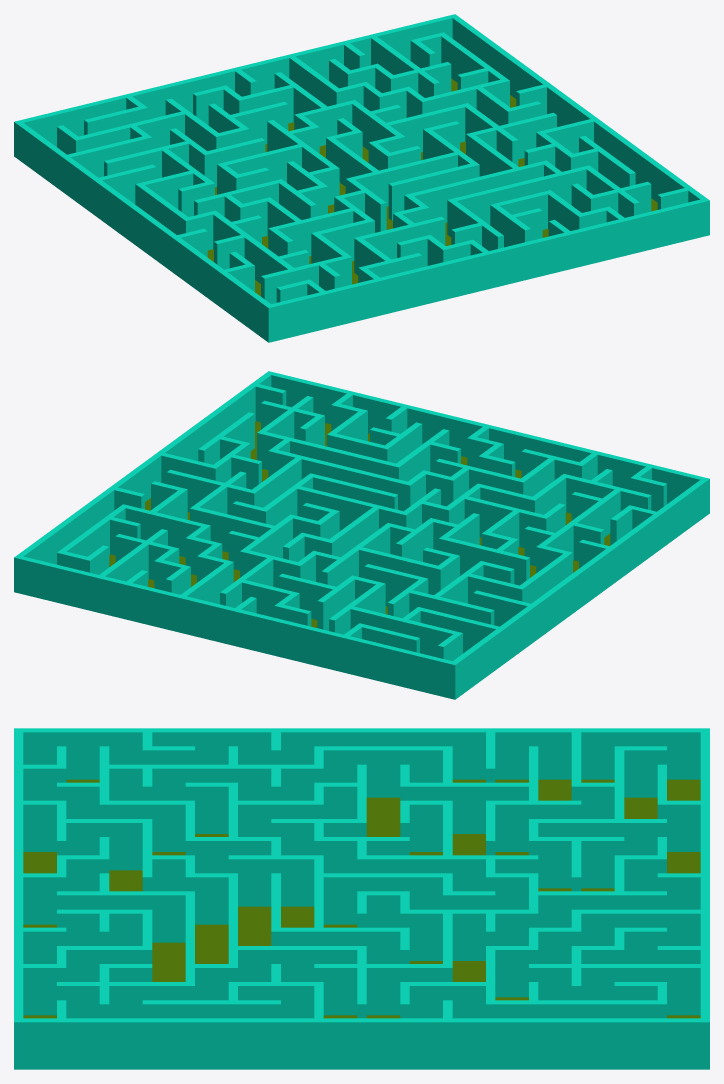
Rendered from Level47Graund.FBX.
The picture shows the model from 3 angles, top to bottom: view 1: azimuth 30°, elevation 25°; view 2: azimuth 150°, elevation 25°; view 3: azimuth 270°, elevation 25°; orthographic projection. The views are drawn at different scales.
Visible parts, largest first — view 1: pPlane2; view 2: pPlane2; view 3: pPlane2.
Boxes of the visible parts, x1=… form: pPlane2: x1=14, y1=14, x2=709, y2=342; pPlane2: x1=14, y1=371, x2=709, y2=699; pPlane2: x1=14, y1=728, x2=709, y2=1069.
Bounding box in the file's own units: 373 × 28 × 373.
